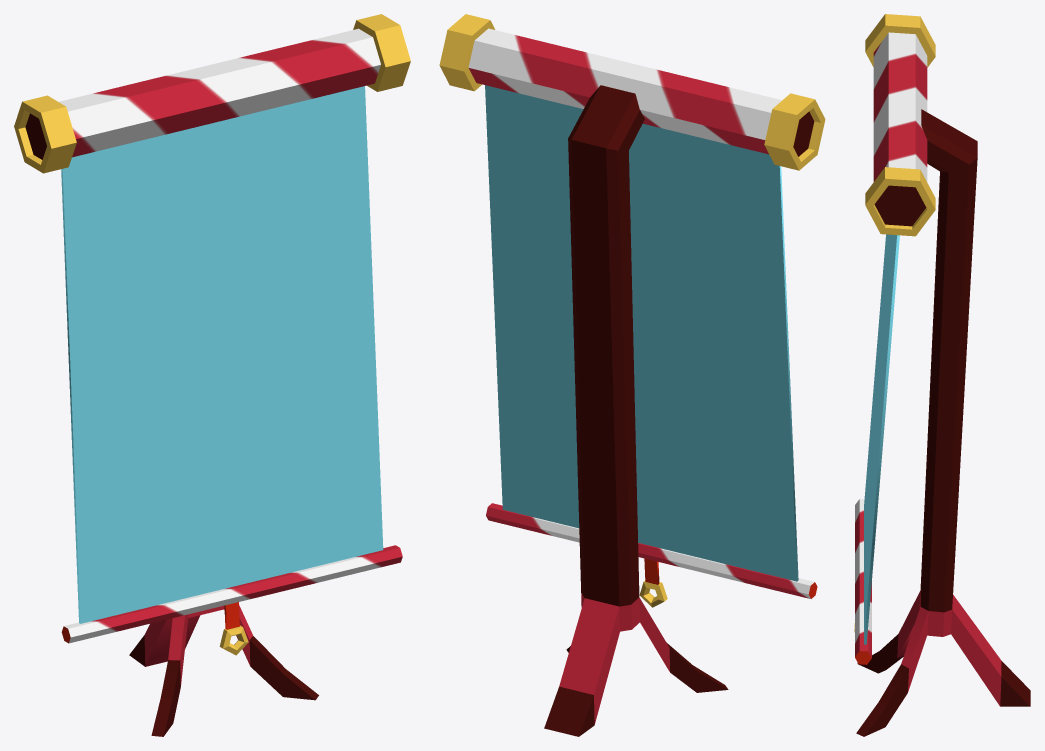
The model's file is PosterRoller.glb.
3 views of the same model, side by side, from view 1: azimuth 30°, elevation 25°; view 2: azimuth 150°, elevation 25°; view 3: azimuth 270°, elevation 25° (orthographic). The views are drawn at different scales.
Parts seen in each view (by area): view 1: PosterRoller; view 2: PosterRoller; view 3: PosterRoller.
Part boxes in pixels (bbox=[...]): PosterRoller: bbox=[14, 14, 410, 736]; PosterRoller: bbox=[439, 14, 825, 736]; PosterRoller: bbox=[854, 14, 1030, 736].
Bounding box in the file's own units: 3.01 × 5.12 × 1.36.
Materials: 1 (1 with a texture image).
